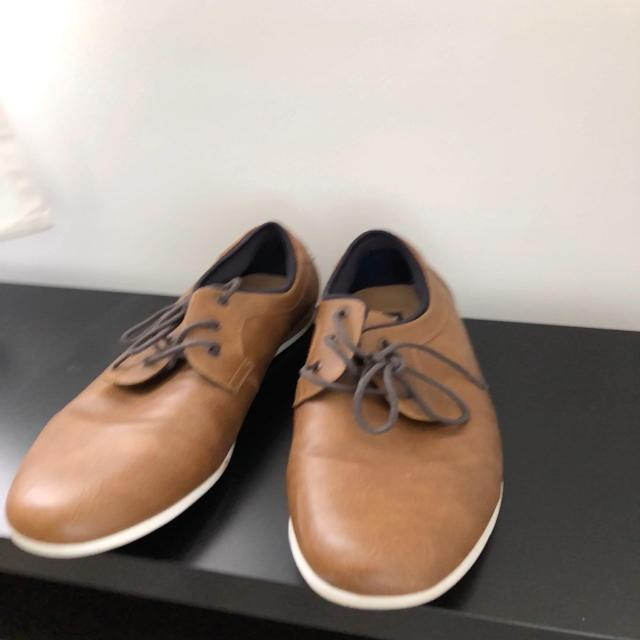shoe: (4, 222, 322, 560), (286, 233, 504, 610)
